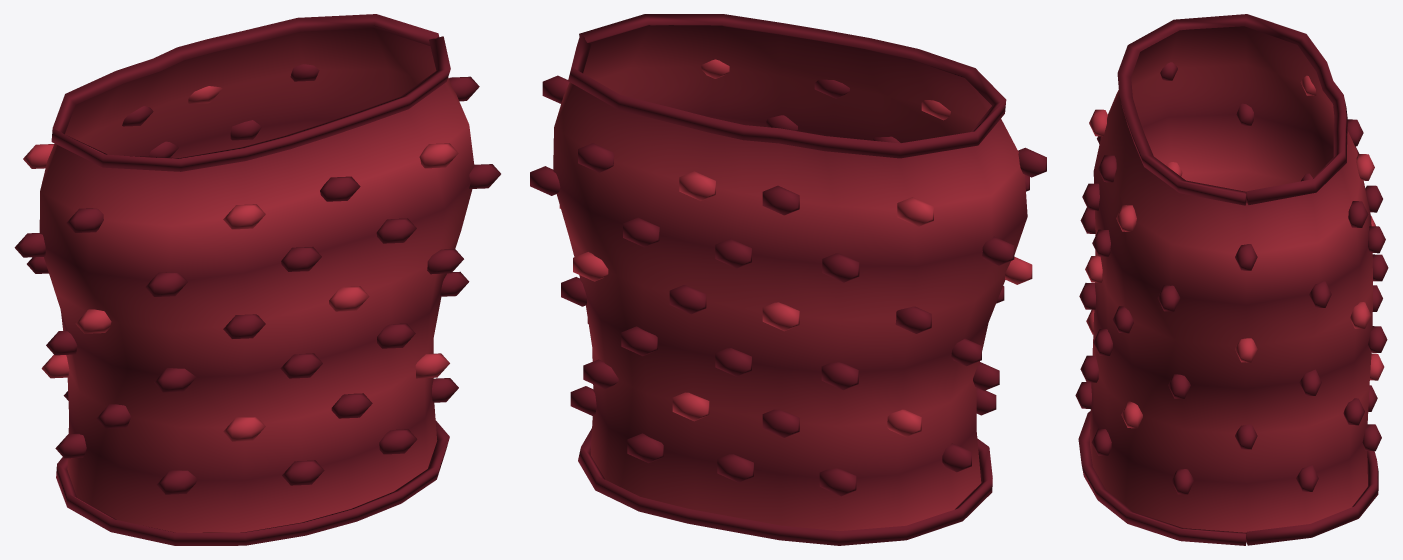
File: crimtane_armor_chest.glb
3 views of the same model, side by side, from view 1: azimuth 30°, elevation 25°; view 2: azimuth 150°, elevation 25°; view 3: azimuth 270°, elevation 25° (orthographic). The views are drawn at different scales.
Visible parts, largest first — view 1: crimtane_armor_chest; view 2: crimtane_armor_chest; view 3: crimtane_armor_chest.
Boxes of the visible parts, left/top/right/bottom form: crimtane_armor_chest: left=14, top=14, right=500, bottom=545; crimtane_armor_chest: left=530, top=14, right=1046, bottom=545; crimtane_armor_chest: left=1075, top=14, right=1388, bottom=545.
Size of the model in its own units: 0.4834 by 0.3859 by 0.3018.
